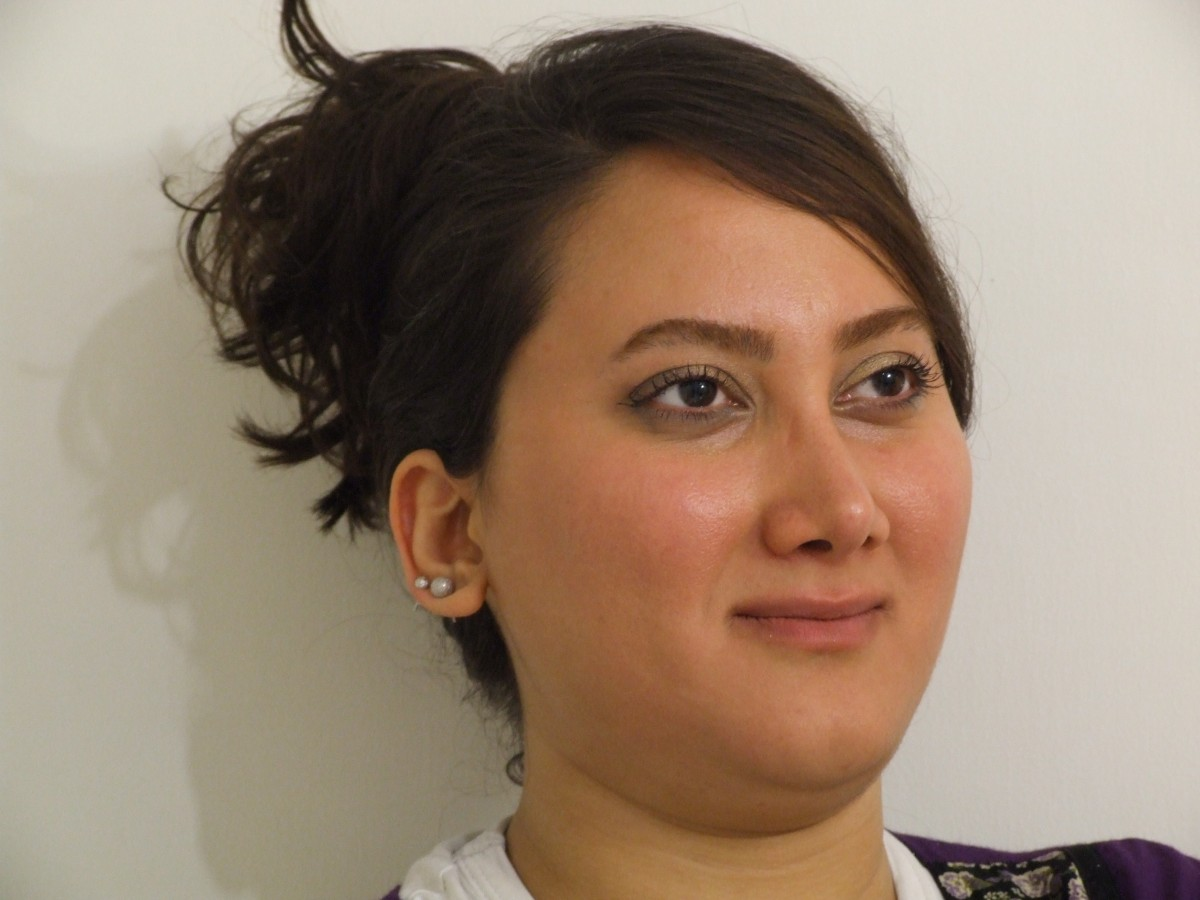neo: (780, 698, 813, 722)
occhiaia: (608, 409, 767, 466), (828, 403, 958, 469)
